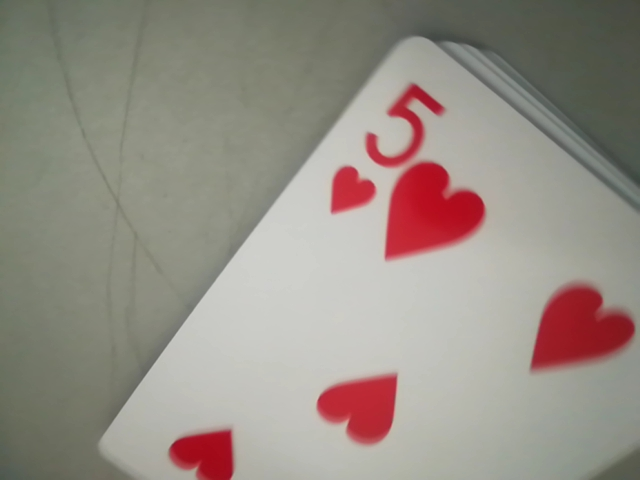hx 5: (333, 71, 452, 220)
